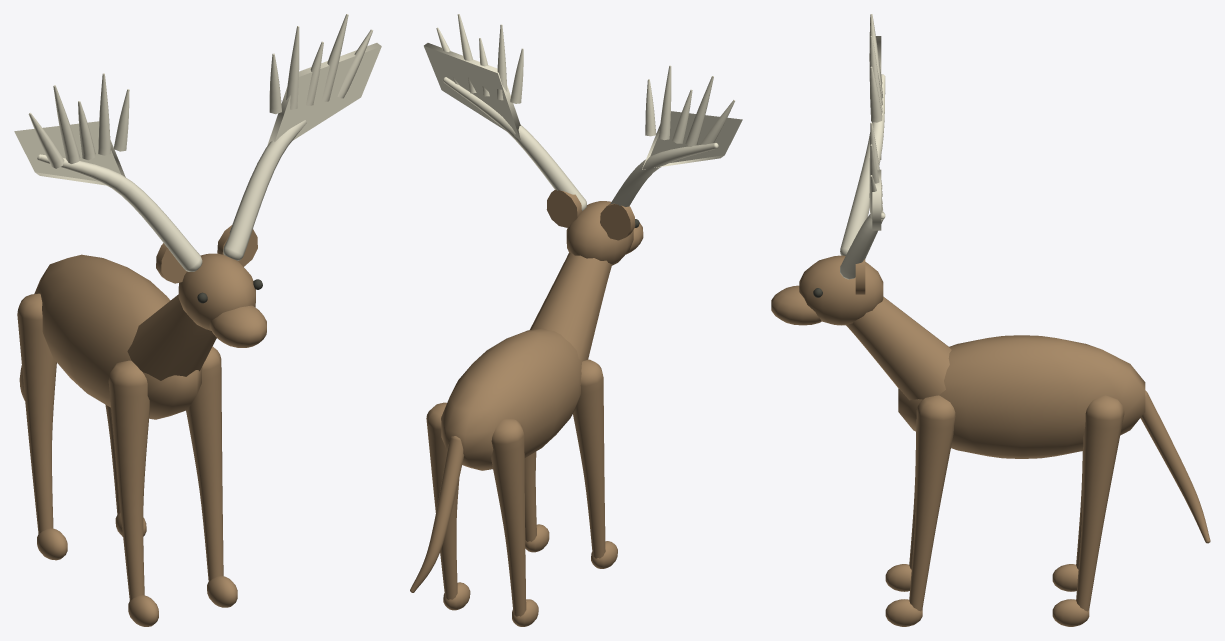
The model's file is dinosaurs-and-prehistoric-life-megaloceros-3186bd94__4918.glb.
3 renders of one model, left to right at view 1: azimuth 30°, elevation 25°; view 2: azimuth 150°, elevation 25°; view 3: azimuth 270°, elevation 25°, orthographic. The views are drawn at different scales.
Parts seen in each view (by area): view 1: megaloceros; view 2: megaloceros; view 3: megaloceros.
Boxes of the visible parts, bbox=[...] form: megaloceros: bbox=[14, 14, 381, 626]; megaloceros: bbox=[410, 14, 742, 626]; megaloceros: bbox=[771, 14, 1210, 626].
Size of the model in its own units: 2.44 by 3.72 by 2.8.
